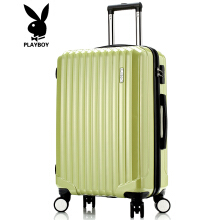luggage: (53, 1, 173, 220)
